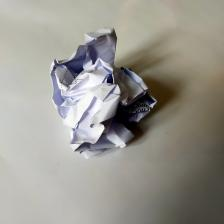Paper: (44, 28, 158, 158)
